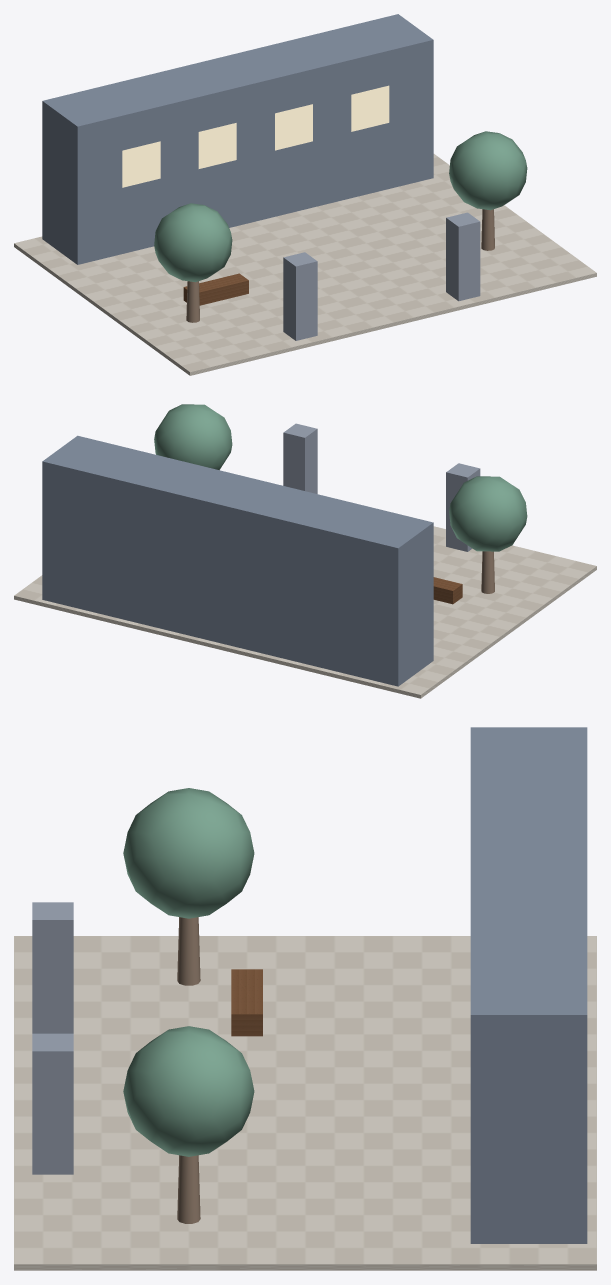
The model's file is ch5_env_school_courtyard_evening.glb.
3 views of the same model, one above another, from view 1: azimuth 30°, elevation 25°; view 2: azimuth 150°, elevation 25°; view 3: azimuth 270°, elevation 25° (orthographic). The views are drawn at different scales.
Visible parts, largest first — view 1: ch5_env_school_courtyard_evening; view 2: ch5_env_school_courtyard_evening; view 3: ch5_env_school_courtyard_evening.
Boxes of the visible parts, <box> form: ch5_env_school_courtyard_evening: <box>14,14,596,375</box>; ch5_env_school_courtyard_evening: <box>14,404,596,698</box>; ch5_env_school_courtyard_evening: <box>14,727,596,1270</box>.
Size of the model in its own units: 16 by 5.34 by 12.
10 materials, 2 textured.
